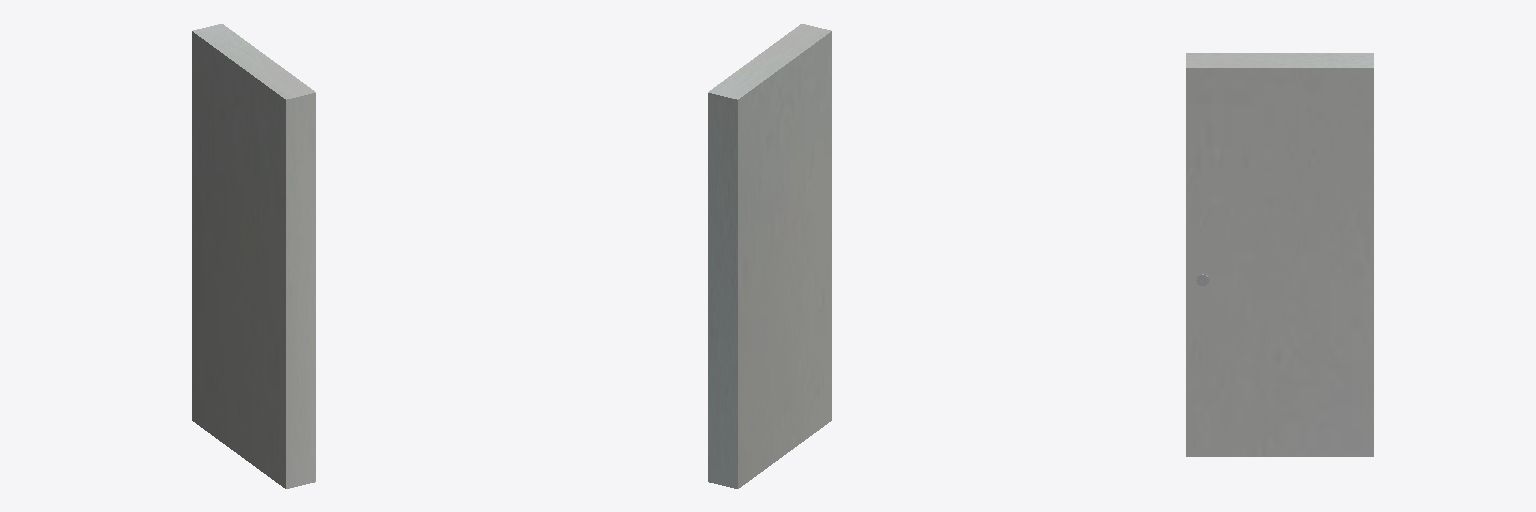
3 views of the same model, side by side, from view 1: azimuth 30°, elevation 25°; view 2: azimuth 150°, elevation 25°; view 3: azimuth 270°, elevation 25° (orthographic).
Parts seen in each view (by area): view 1: pasted__pasted__pasted__pCube8 pasted__pasted__group88 pasted__g; view 2: pasted__pasted__pasted__pCube8 pasted__pasted__group88 pasted__g; view 3: pasted__pasted__pasted__pCube8 pasted__pasted__group88 pasted__g.
Part boxes in pixels (x1,y1,x2,y2): pasted__pasted__pasted__pCube8 pasted__pasted__group88 pasted__g: (192,24,315,488); pasted__pasted__pasted__pCube8 pasted__pasted__group88 pasted__g: (708,24,831,488); pasted__pasted__pasted__pCube8 pasted__pasted__group88 pasted__g: (1186,53,1373,456).
Size of the model in its own units: 0.3378 by 3.67 by 1.61.
Materials: 2 (2 with a texture image).